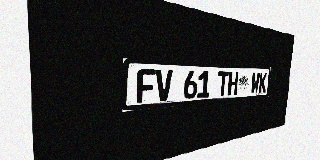1: (197, 71, 211, 98)
6: (183, 70, 198, 99)
F: (137, 69, 156, 103)
H: (228, 71, 239, 96)
K: (258, 72, 267, 93)
T: (217, 71, 229, 97)
V: (155, 70, 173, 102)
W: (251, 72, 260, 94)
